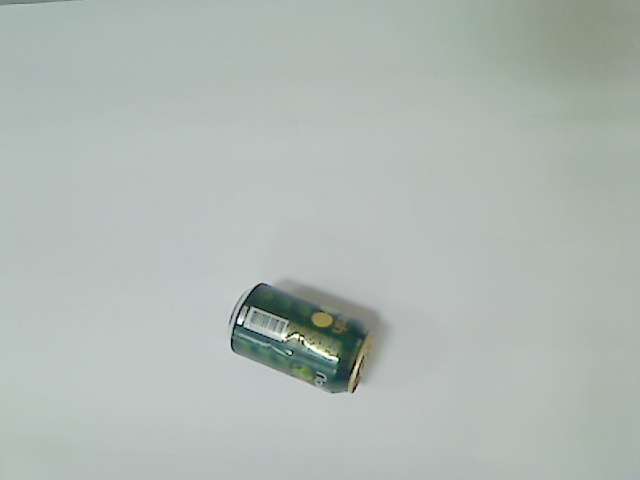can: (226, 281, 375, 396)
